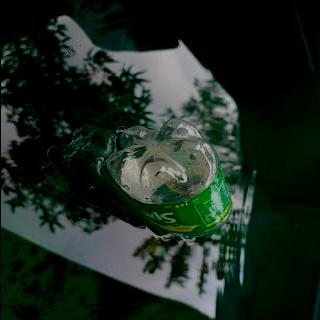bottle: (100, 115, 234, 241)
